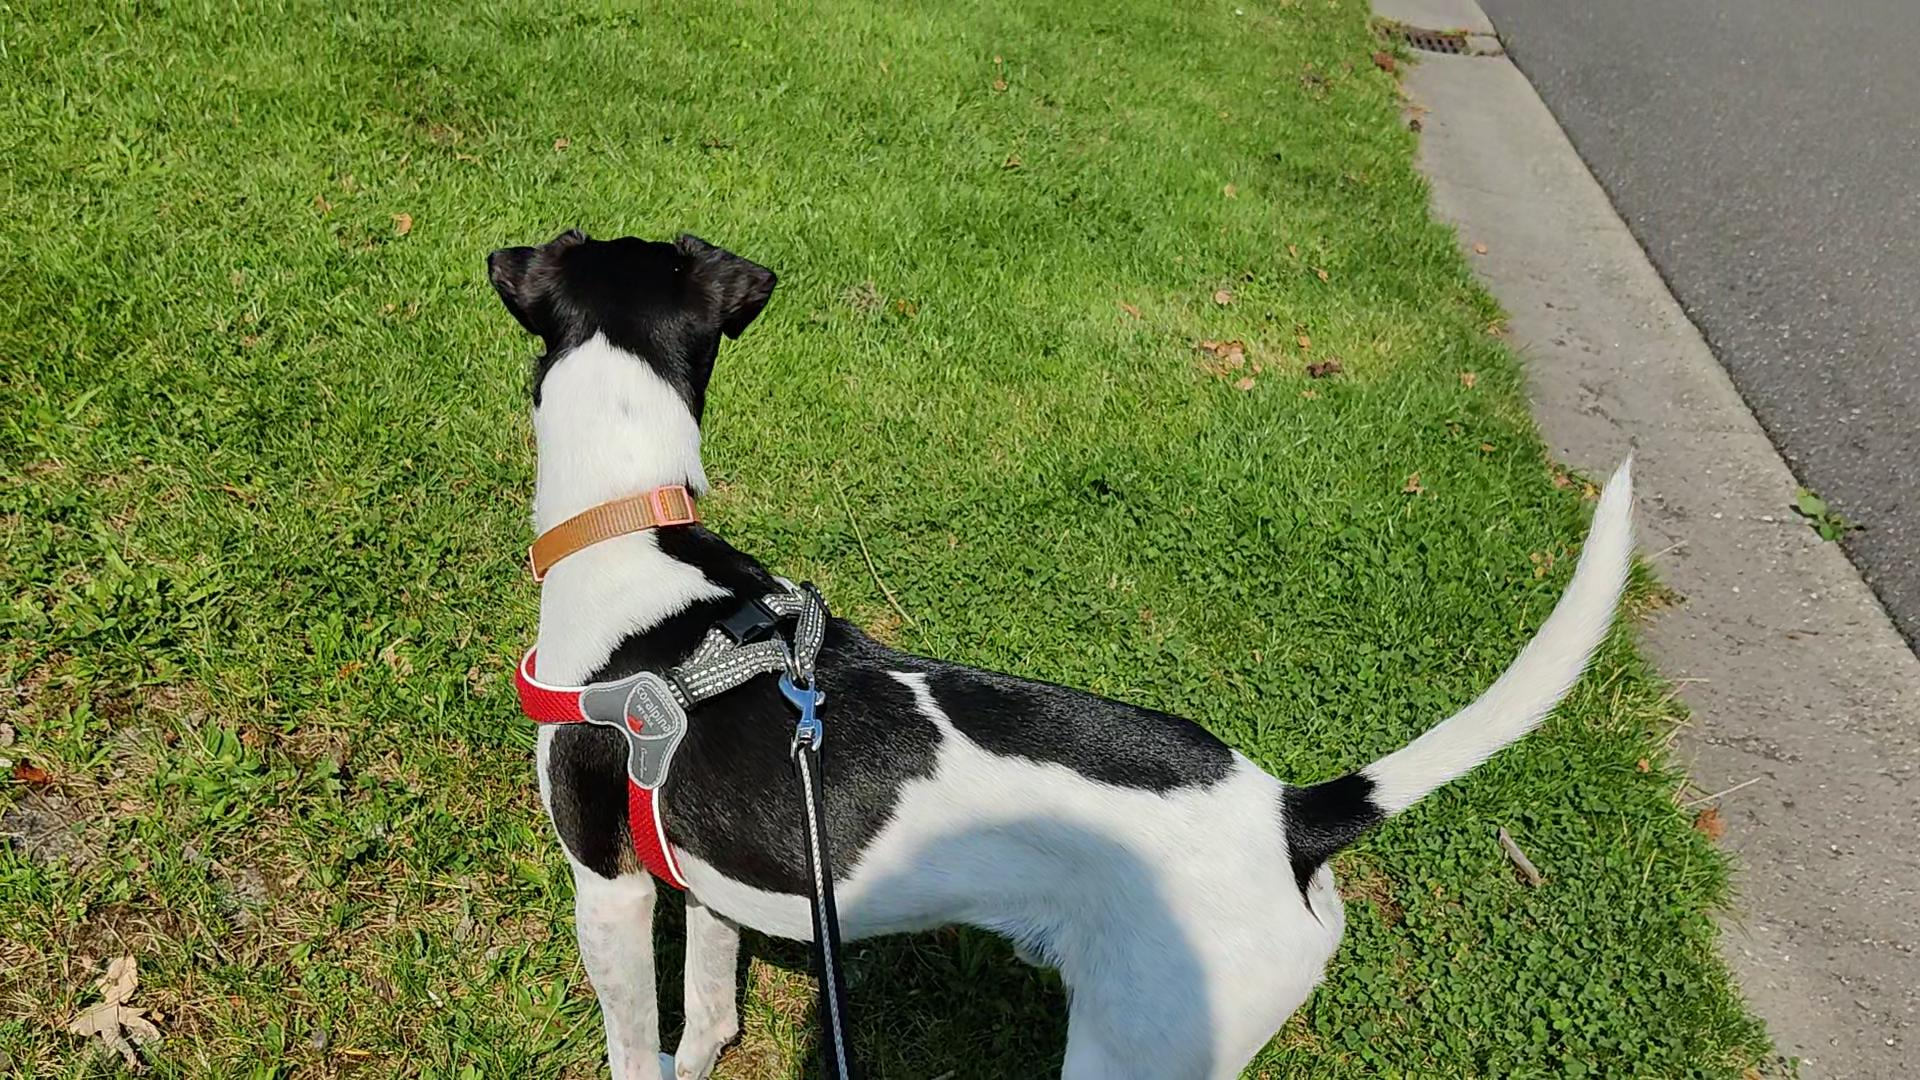Dog: (462, 204, 1660, 1079)
